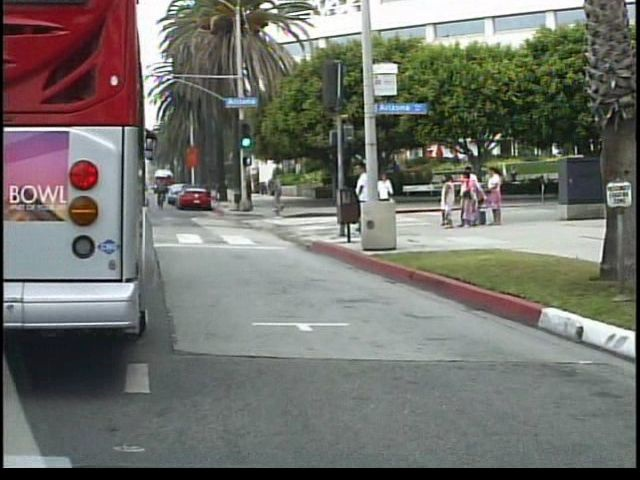person: (355, 161, 379, 239), (377, 168, 400, 230), (271, 170, 290, 211)
